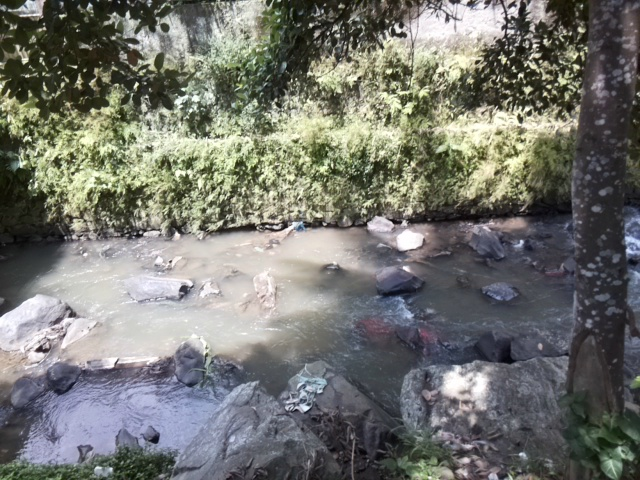Sampah_Plastik: (283, 373, 329, 413), (292, 217, 304, 231)
